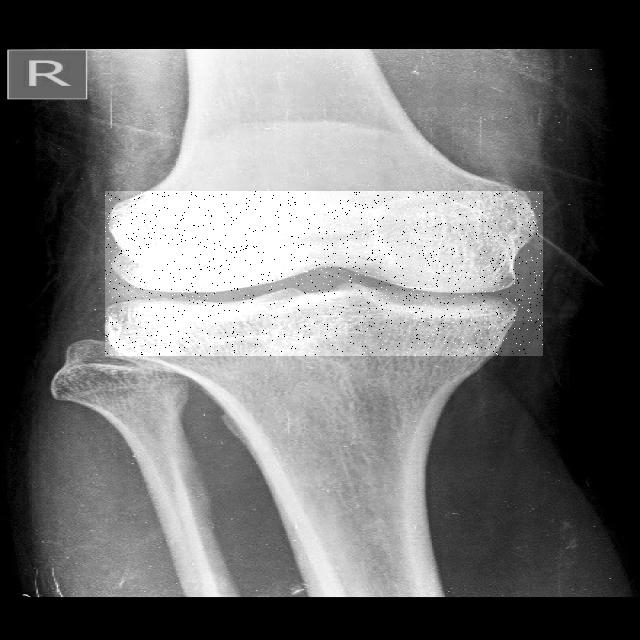normal: (105, 191, 543, 356)
